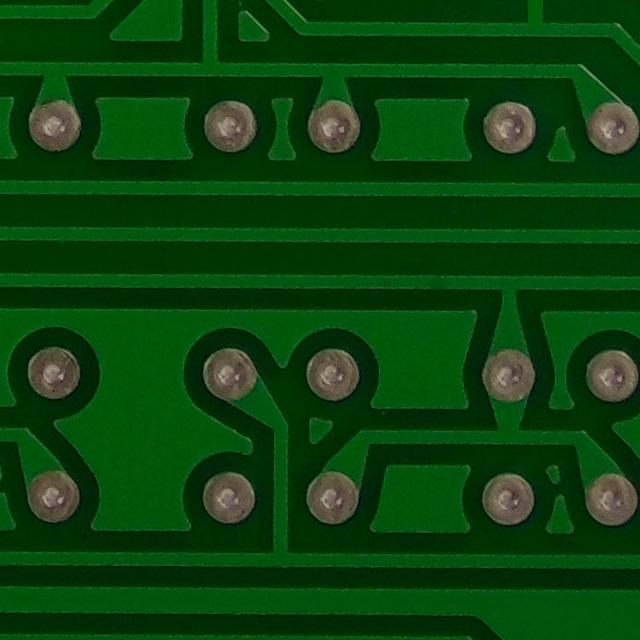short: (507, 0, 560, 52)
